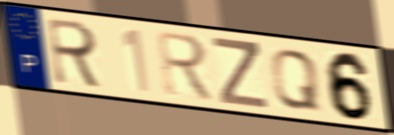1: (121, 28, 151, 94)
6: (325, 50, 378, 123)
Q: (269, 47, 323, 113)
R: (154, 28, 218, 105), (45, 16, 106, 92)
Z: (210, 34, 271, 111)
